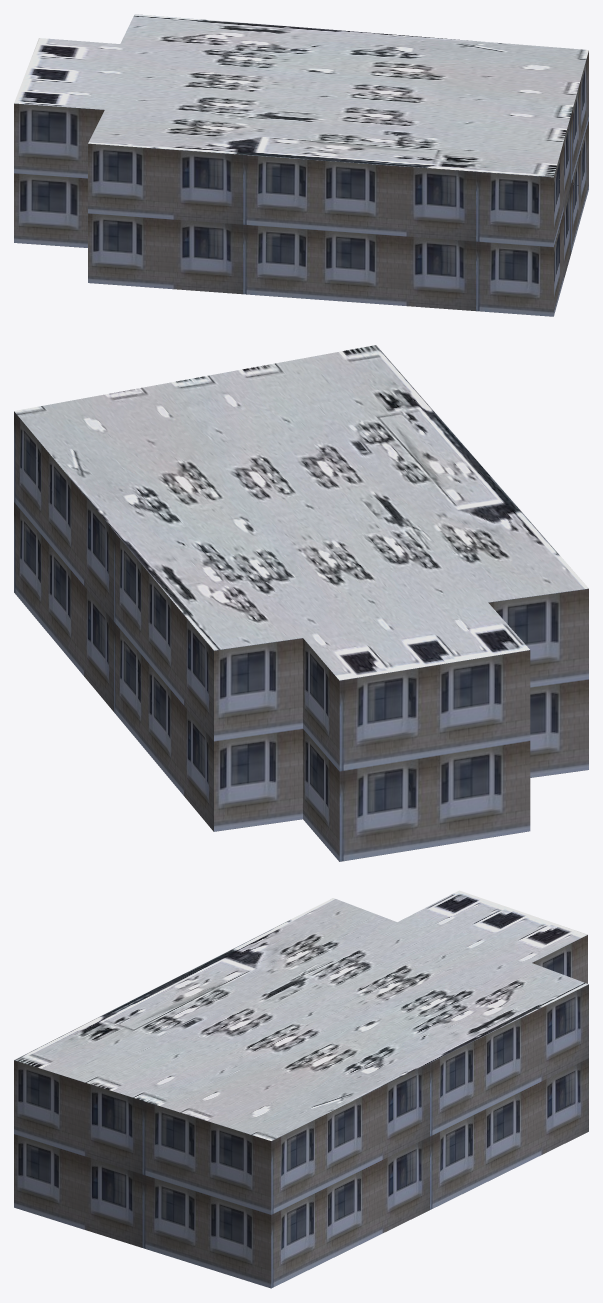
The model's file is ResTex__970.fbx.
3 renders of one model, top to bottom at view 1: azimuth 30°, elevation 25°; view 2: azimuth 150°, elevation 25°; view 3: azimuth 270°, elevation 25°, orthographic. The views are drawn at different scales.
Parts seen in each view (by area): view 1: CityEngineMaterial_3_m, CityEngineMaterial_4_m; view 2: CityEngineMaterial_4_m, CityEngineMaterial_3_m; view 3: CityEngineMaterial_3_m, CityEngineMaterial_4_m.
Part boxes in pixels (left/top/right/bottom): CityEngineMaterial_3_m: left=14, top=51, right=588, bottom=316; CityEngineMaterial_4_m: left=14, top=14, right=588, bottom=177; CityEngineMaterial_4_m: left=14, top=345, right=588, bottom=680; CityEngineMaterial_3_m: left=14, top=411, right=588, bottom=861; CityEngineMaterial_3_m: left=14, top=935, right=588, bottom=1288; CityEngineMaterial_4_m: left=14, top=890, right=588, bottom=1140.
Bounding box in the file's own units: 21.88 × 6 × 21.21.
2 materials, 2 textured.
